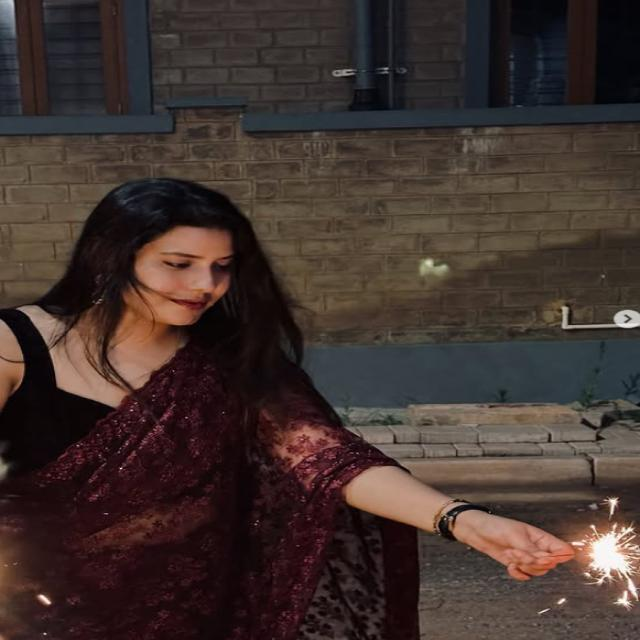fire: (591, 524, 625, 580)
